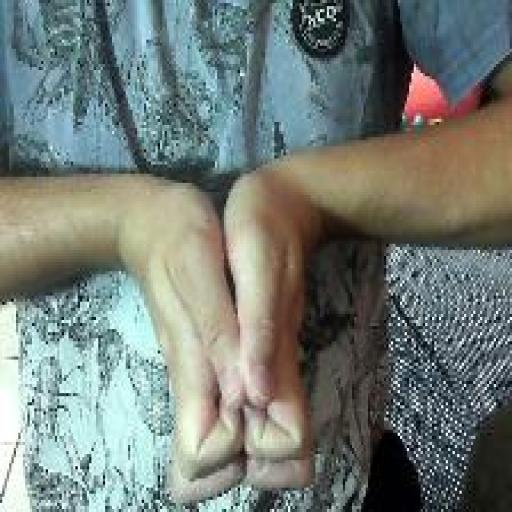I -boar-: (135, 180, 322, 506)
